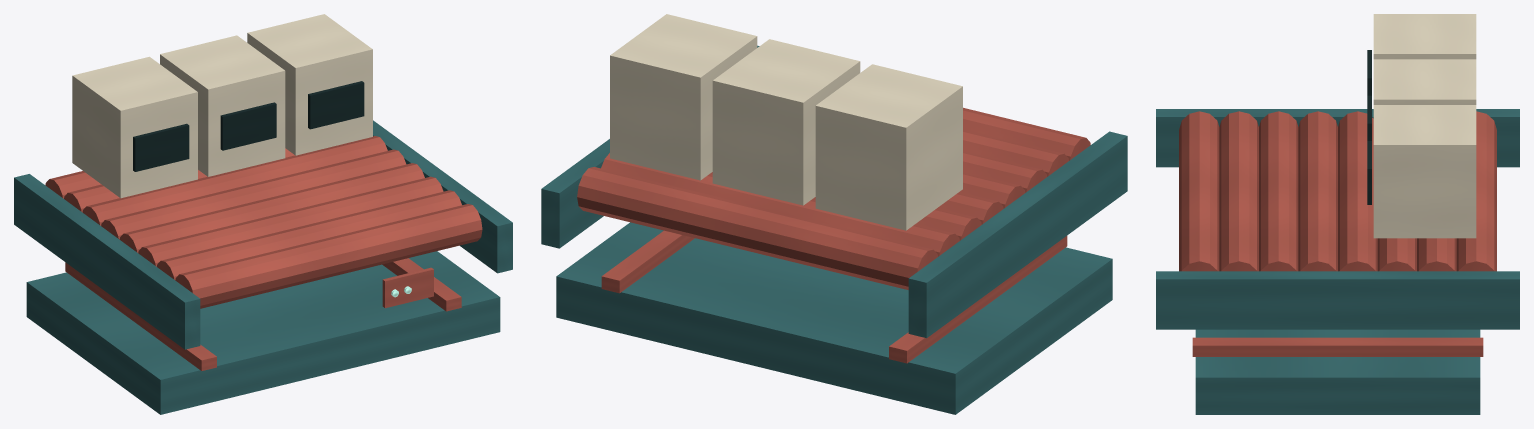
File: atlas100-s039-a02.glb
The picture shows the model from 3 angles, left to right: view 1: azimuth 30°, elevation 25°; view 2: azimuth 150°, elevation 25°; view 3: azimuth 270°, elevation 25°; orthographic projection. The views are drawn at different scales.
Visible parts, largest first — view 1: atlas100-s039-a02:part-000, atlas100-s039-a02:part-013, atlas100-s039-a02:part-010, atlas100-s039-a02:part-011, atlas100-s039-a02:part-015, atlas100-s039-a02:part-017, atlas100-s039-a02:part-006, atlas100-s039-a02:part-007, atlas100-s039-a02:part-008, atlas100-s039-a02:part-009, atlas100-s039-a02:part-005, atlas100-s039-a02:part-012 (+8 smaller); view 2: atlas100-s039-a02:part-000, atlas100-s039-a02:part-013, atlas100-s039-a02:part-015, atlas100-s039-a02:part-017, atlas100-s039-a02:part-003, atlas100-s039-a02:part-011, atlas100-s039-a02:part-004, atlas100-s039-a02:part-012, atlas100-s039-a02:part-010, atlas100-s039-a02:part-001, atlas100-s039-a02:part-002, atlas100-s039-a02:part-009 (+4 smaller); view 3: atlas100-s039-a02:part-012, atlas100-s039-a02:part-000, atlas100-s039-a02:part-017, atlas100-s039-a02:part-010, atlas100-s039-a02:part-007, atlas100-s039-a02:part-008, atlas100-s039-a02:part-009, atlas100-s039-a02:part-002, atlas100-s039-a02:part-006, atlas100-s039-a02:part-015, atlas100-s039-a02:part-013, atlas100-s039-a02:part-011 (+3 smaller).
Part boxes in pixels (x1=…): atlas100-s039-a02:part-000: x1=26, y1=251, x2=500, y2=414; atlas100-s039-a02:part-013: x1=72, y1=56, x2=197, y2=198; atlas100-s039-a02:part-010: x1=175, y1=204, x2=482, y2=308; atlas100-s039-a02:part-011: x1=14, y1=174, x2=200, y2=349; atlas100-s039-a02:part-015: x1=160, y1=35, x2=285, y2=176; atlas100-s039-a02:part-017: x1=247, y1=14, x2=372, y2=155; atlas100-s039-a02:part-006: x1=101, y1=149, x2=406, y2=239; atlas100-s039-a02:part-007: x1=119, y1=163, x2=424, y2=252; atlas100-s039-a02:part-008: x1=138, y1=176, x2=443, y2=266; atlas100-s039-a02:part-009: x1=157, y1=190, x2=461, y2=279; atlas100-s039-a02:part-005: x1=82, y1=136, x2=387, y2=225; atlas100-s039-a02:part-012: x1=373, y1=120, x2=512, y2=273; atlas100-s039-a02:part-000: x1=556, y1=222, x2=1112, y2=414; atlas100-s039-a02:part-013: x1=815, y1=64, x2=962, y2=230; atlas100-s039-a02:part-015: x1=712, y1=39, x2=860, y2=205; atlas100-s039-a02:part-017: x1=610, y1=14, x2=757, y2=180; atlas100-s039-a02:part-003: x1=577, y1=167, x2=937, y2=289; atlas100-s039-a02:part-011: x1=908, y1=131, x2=1127, y2=338; atlas100-s039-a02:part-004: x1=601, y1=153, x2=959, y2=256; atlas100-s039-a02:part-012: x1=541, y1=45, x2=759, y2=248; atlas100-s039-a02:part-010: x1=963, y1=107, x2=1090, y2=160; atlas100-s039-a02:part-001: x1=889, y1=236, x2=1067, y2=363; atlas100-s039-a02:part-002: x1=601, y1=230, x2=694, y2=293; atlas100-s039-a02:part-009: x1=963, y1=129, x2=1068, y2=176; atlas100-s039-a02:part-012: x1=1156, y1=271, x2=1519, y2=329; atlas100-s039-a02:part-000: x1=1195, y1=329, x2=1480, y2=414; atlas100-s039-a02:part-017: x1=1373, y1=105, x2=1476, y2=238; atlas100-s039-a02:part-010: x1=1179, y1=111, x2=1219, y2=271; atlas100-s039-a02:part-007: x1=1298, y1=111, x2=1337, y2=271; atlas100-s039-a02:part-008: x1=1259, y1=111, x2=1298, y2=271; atlas100-s039-a02:part-009: x1=1219, y1=111, x2=1258, y2=271; atlas100-s039-a02:part-002: x1=1192, y1=337, x2=1483, y2=356; atlas100-s039-a02:part-006: x1=1338, y1=111, x2=1377, y2=271; atlas100-s039-a02:part-015: x1=1373, y1=59, x2=1476, y2=104; atlas100-s039-a02:part-013: x1=1373, y1=14, x2=1476, y2=59; atlas100-s039-a02:part-011: x1=1156, y1=109, x2=1519, y2=167.
Bounding box in the file's own units: 2.64 × 1.73 × 2.3.
5 materials, 5 textured.
